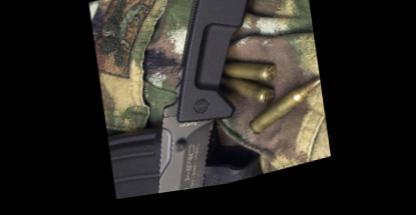knife: (140, 85, 250, 198)
